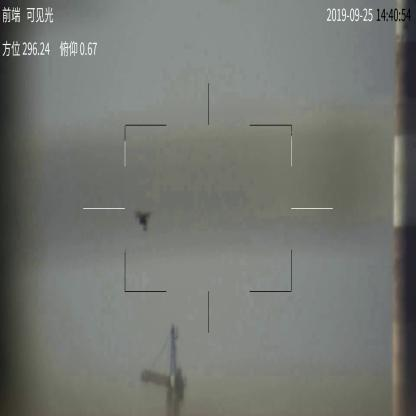uav: (136, 207, 157, 232)
